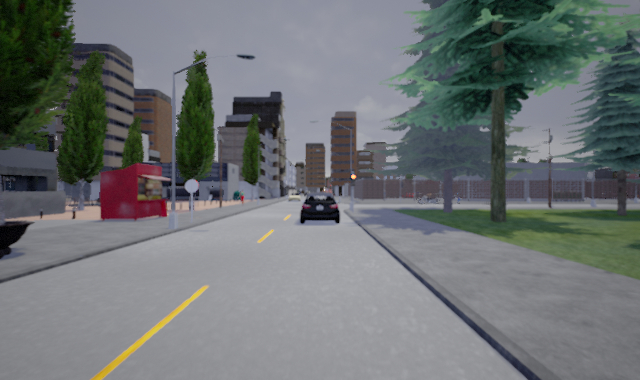motobike: (417, 191, 444, 206)
traffic_light: (348, 172, 358, 188)
vehicle: (300, 193, 340, 224), (287, 191, 303, 203)
